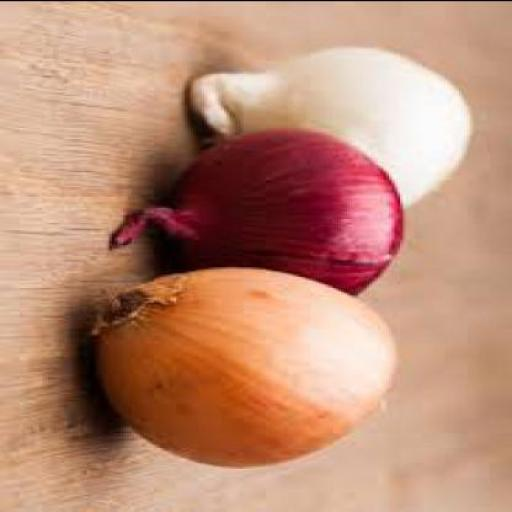biodegradable: (98, 264, 400, 466), (112, 126, 409, 292), (192, 44, 476, 207)
